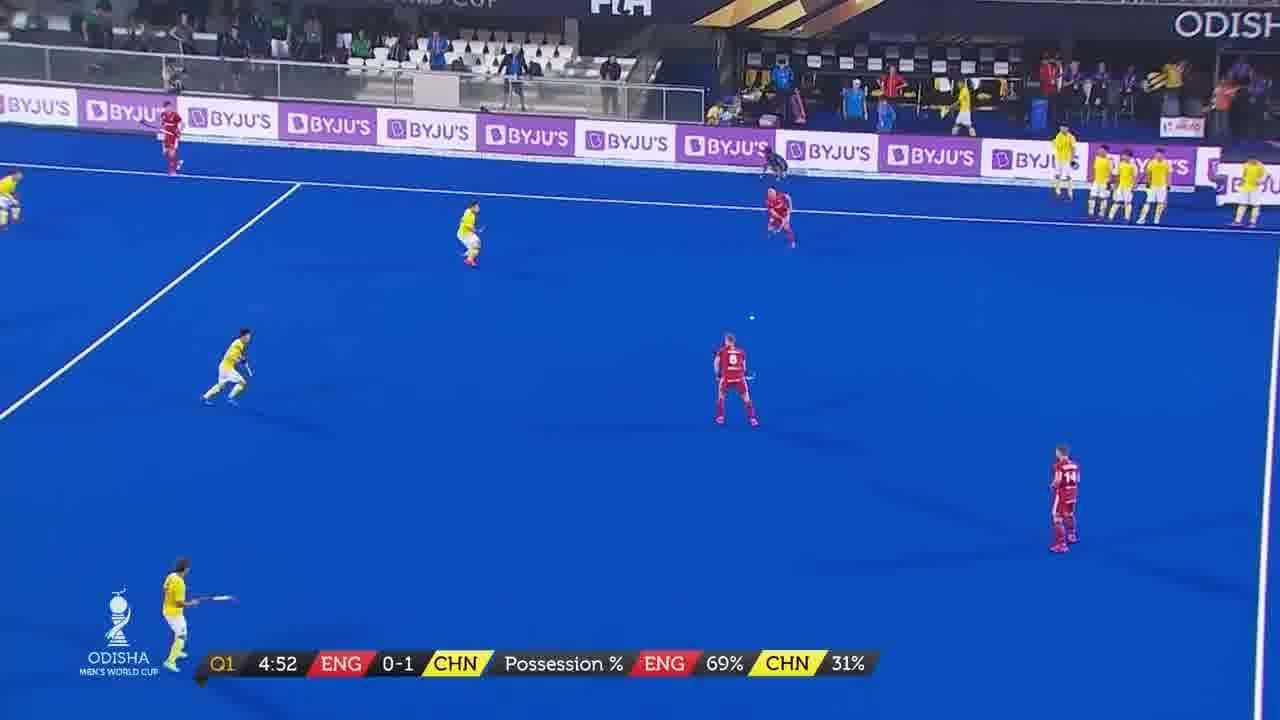ball: (747, 311, 758, 323)
